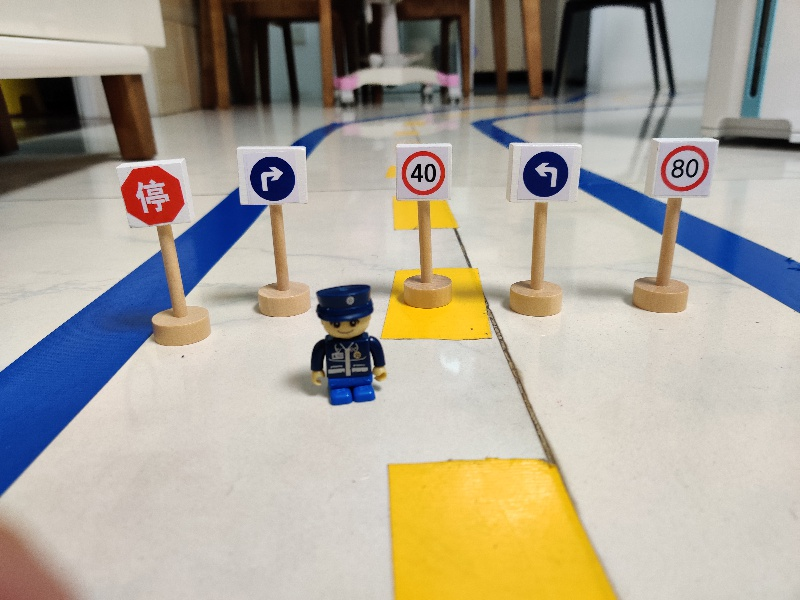limit_40: (394, 143, 453, 201)
limit_80: (645, 135, 719, 199)
person: (308, 280, 391, 406)
stop: (115, 155, 192, 229)
turn_left: (507, 140, 582, 204)
turn_right: (234, 143, 311, 206)
